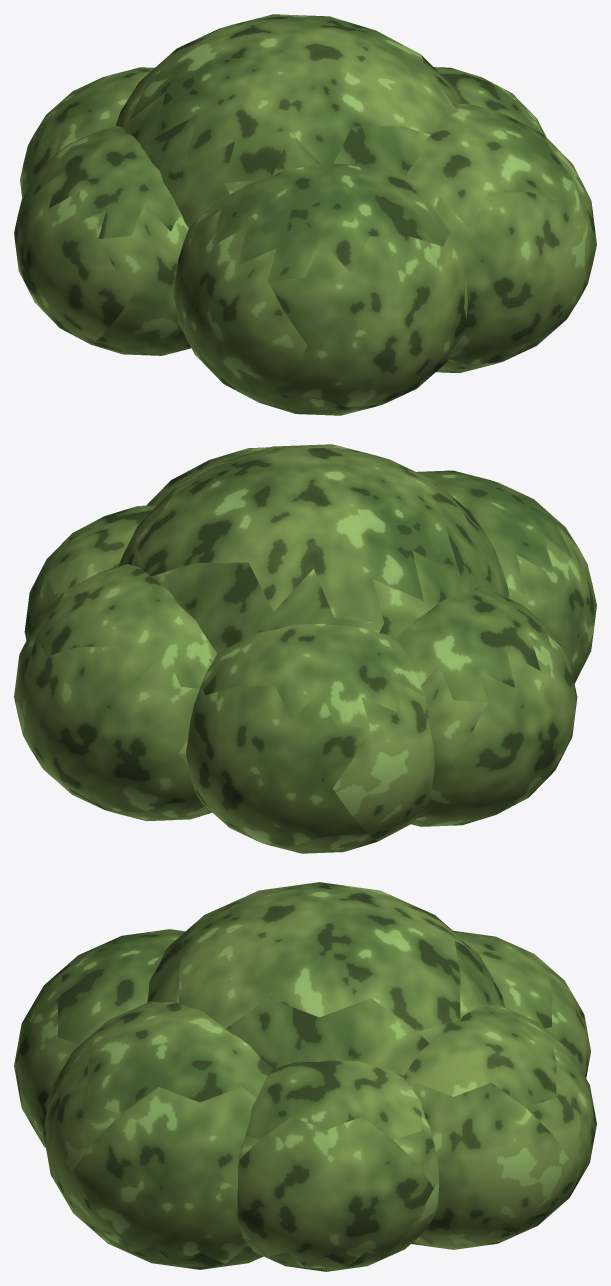
Rendered from bush0.glb.
The picture shows the model from 3 angles, top to bottom: view 1: azimuth 30°, elevation 25°; view 2: azimuth 150°, elevation 25°; view 3: azimuth 270°, elevation 25°; orthographic projection. The views are drawn at different scales.
Parts seen in each view (by area): view 1: bush0; view 2: bush0; view 3: bush0.
Part boxes in pixels (<box>): bush0: <box>14,14,596,415</box>; bush0: <box>14,444,596,853</box>; bush0: <box>14,882,596,1271</box>.
Bounding box in the file's own units: 1.1 × 0.6377 × 1.1.
1 material, 1 textured.
